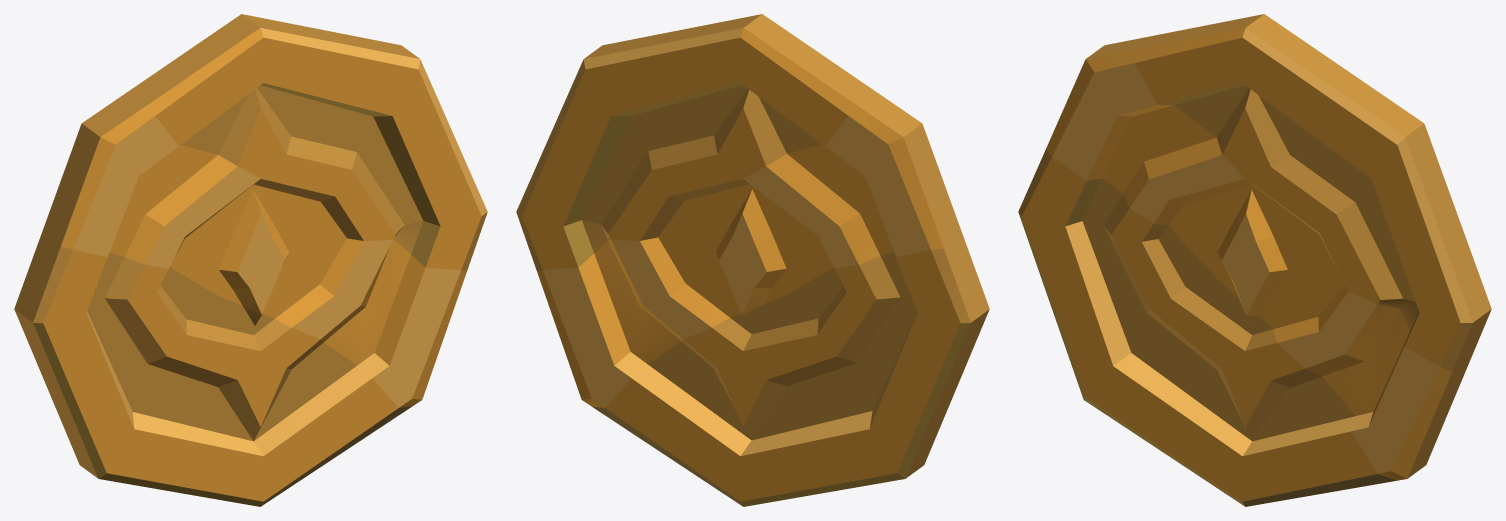
Rendered from SM_Prop_Coin_01.fbx.
3 views of the same model, side by side, from view 1: azimuth 30°, elevation 25°; view 2: azimuth 150°, elevation 25°; view 3: azimuth 330°, elevation 25° (orthographic).
Visible parts, largest first — view 1: SM_Prop_Coin_01; view 2: SM_Prop_Coin_01; view 3: SM_Prop_Coin_01.
Part boxes in pixels (x1,y1,x2,y2): SM_Prop_Coin_01: (14, 14, 487, 506); SM_Prop_Coin_01: (516, 14, 989, 506); SM_Prop_Coin_01: (1018, 14, 1491, 506).
Size of the model in its own units: 123 by 123 by 11.72.
Materials: 1 (1 with a texture image).
